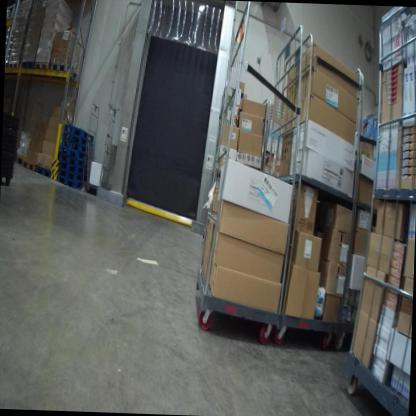pallet: (58, 149, 92, 171), (50, 60, 79, 83), (64, 120, 94, 142), (59, 167, 89, 185), (60, 139, 92, 155), (62, 133, 92, 149), (60, 145, 89, 161), (58, 161, 89, 174), (56, 176, 87, 189), (35, 62, 54, 78), (36, 163, 53, 179), (19, 58, 36, 73), (22, 158, 37, 172), (9, 58, 21, 73)
